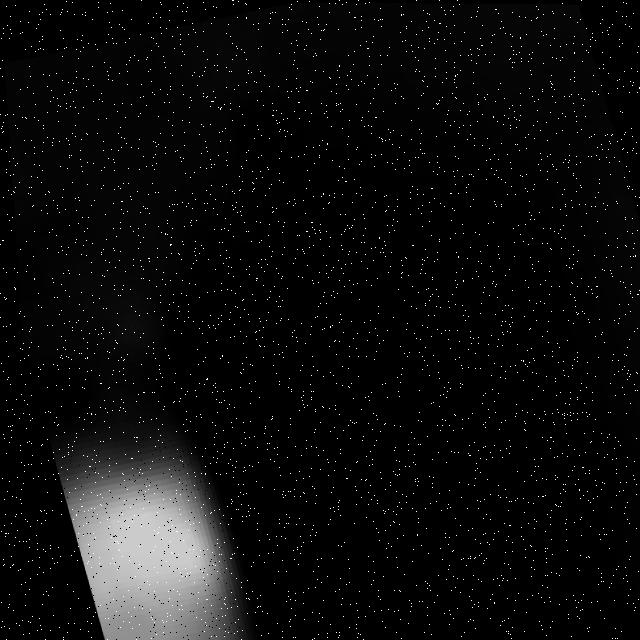person: (37, 393, 263, 640)
